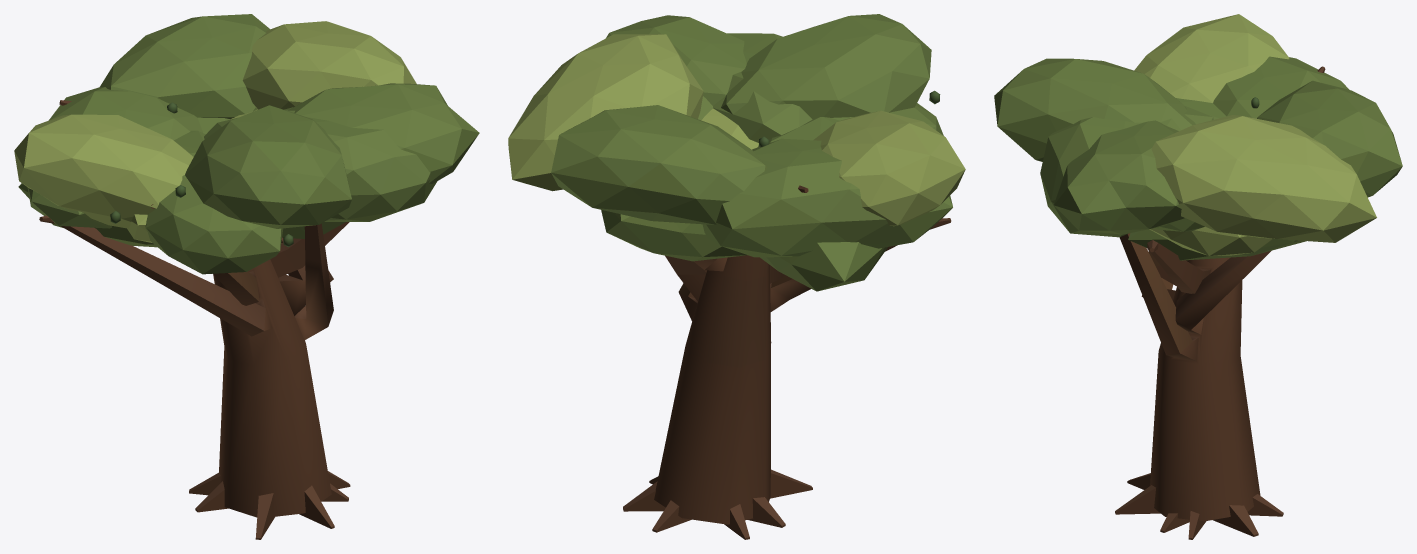
File: tree_olive_b.glb
3 renders of one model, left to right at view 1: azimuth 30°, elevation 25°; view 2: azimuth 150°, elevation 25°; view 3: azimuth 270°, elevation 25°, orthographic. The views are drawn at different scales.
Visible parts, largest first — view 1: tree_olive_b_LOD0; view 2: tree_olive_b_LOD0; view 3: tree_olive_b_LOD0.
Part boxes in pixels (left/top/right/bottom): tree_olive_b_LOD0: left=14, top=14, right=479, bottom=539; tree_olive_b_LOD0: left=508, top=14, right=965, bottom=539; tree_olive_b_LOD0: left=994, top=14, right=1402, bottom=539.
Size of what is drawn, in the model's own units: 3.96 by 4.21 by 3.78.
